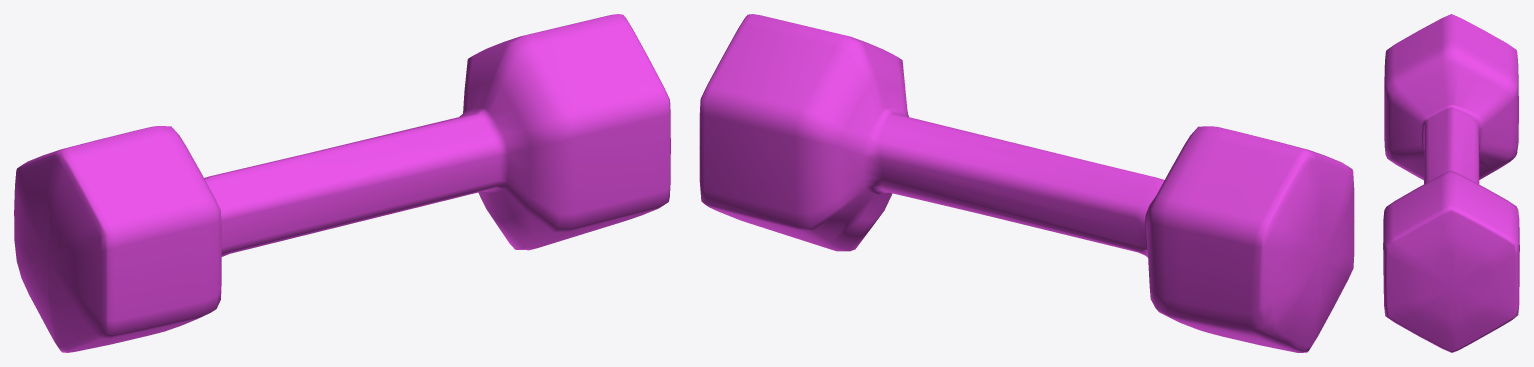
File: dumbbell.fbx
3 views of the same model, side by side, from view 1: azimuth 30°, elevation 25°; view 2: azimuth 150°, elevation 25°; view 3: azimuth 270°, elevation 25° (orthographic). The views are drawn at different scales.
Parts seen in each view (by area): view 1: pCylinder1; view 2: pCylinder1; view 3: pCylinder1.
Boxes of the visible parts, x1,y1,x2,y2 form: pCylinder1: [14, 14, 670, 352]; pCylinder1: [699, 14, 1354, 352]; pCylinder1: [1383, 14, 1519, 352].
Size of the model in its own units: 7.68 by 2.68 by 2.18.
